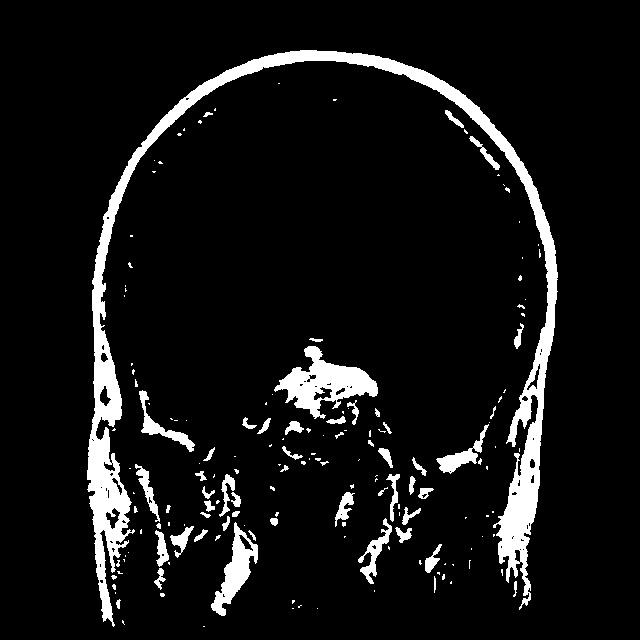Brain-Tumor: (249, 336, 395, 428)
